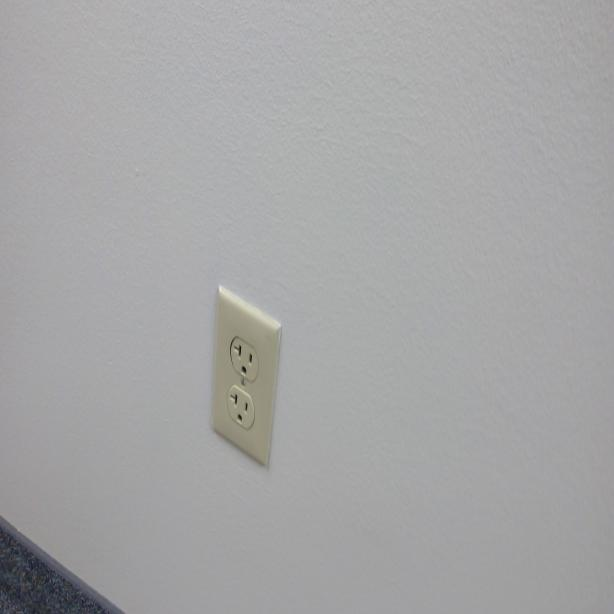typeb: (229, 336, 258, 377), (227, 390, 252, 428)
